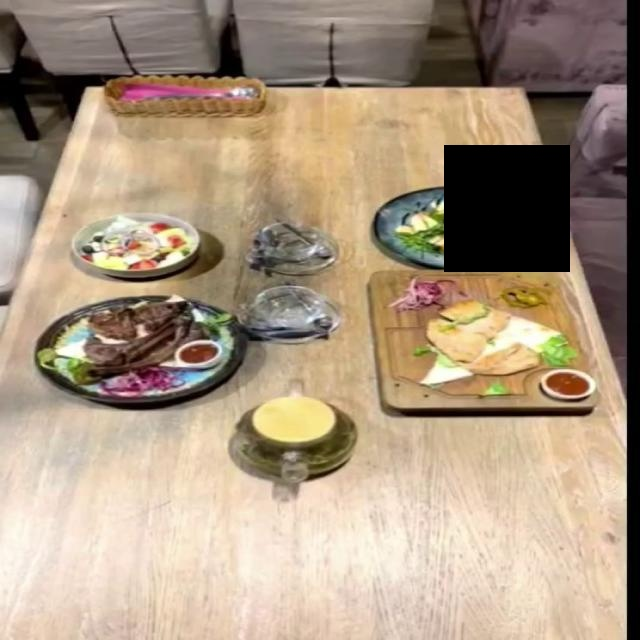meat: (365, 270, 597, 417), (34, 294, 249, 404)
salad: (70, 211, 203, 276), (375, 185, 444, 267)
tea: (229, 395, 359, 480)
